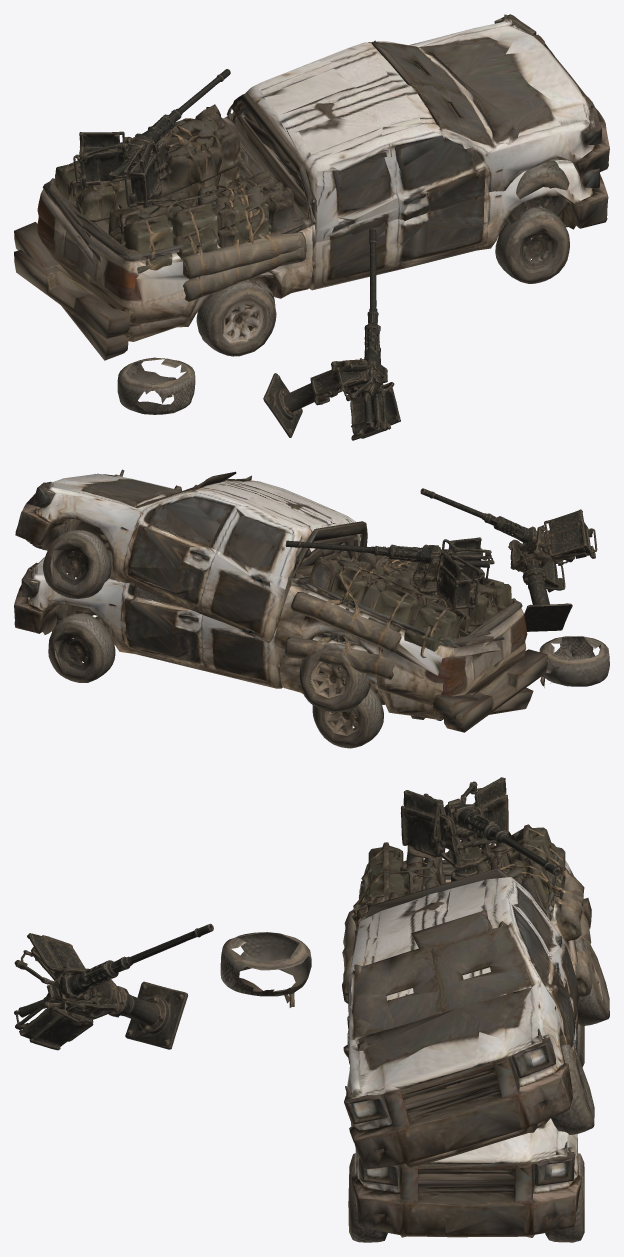
Rendered from technical.glb.
The picture shows the model from 3 angles, top to bottom: view 1: azimuth 30°, elevation 25°; view 2: azimuth 150°, elevation 25°; view 3: azimuth 270°, elevation 25°; orthographic projection. The views are drawn at different scales.
Visible parts, largest first — view 1: WRECK_hull_hull, hull_hull, WRECK_hull_plate, WRECK_hull_metal, hull_metal, hull_rubber, WRECK_turret_metal, turret_metal, WRECK_hull_rubber, hull_plate; view 2: WRECK_hull_hull, hull_hull, WRECK_hull_plate, WRECK_hull_rubber, hull_metal, WRECK_turret_metal, WRECK_hull_metal, hull_rubber, turret_metal, hull_plate; view 3: WRECK_hull_hull, WRECK_hull_plate, WRECK_hull_metal, hull_metal, WRECK_turret_metal, WRECK_hull_rubber, turret_metal, hull_hull, hull_rubber.
Part boxes in pixels (bbox=[...]): WRECK_hull_hull: bbox=[37, 14, 606, 341]; hull_hull: bbox=[37, 147, 604, 324]; WRECK_hull_plate: bbox=[223, 40, 518, 242]; WRECK_hull_metal: bbox=[14, 32, 609, 360]; hull_metal: bbox=[14, 166, 608, 338]; hull_rubber: bbox=[196, 207, 569, 356]; WRECK_turret_metal: bbox=[263, 228, 400, 440]; turret_metal: bbox=[73, 69, 230, 207]; WRECK_hull_rubber: bbox=[117, 160, 569, 414]; hull_plate: bbox=[242, 114, 489, 266]; WRECK_hull_hull: bbox=[34, 469, 518, 705]; hull_hull: bbox=[22, 548, 527, 720]; WRECK_hull_plate: bbox=[111, 471, 367, 623]; WRECK_hull_rubber: bbox=[43, 528, 609, 711]; hull_metal: bbox=[14, 547, 547, 732]; WRECK_turret_metal: bbox=[420, 488, 597, 631]; WRECK_hull_metal: bbox=[15, 483, 533, 721]; hull_rubber: bbox=[48, 611, 383, 748]; turret_metal: bbox=[285, 537, 494, 609]; hull_plate: bbox=[109, 541, 356, 667]; WRECK_hull_hull: bbox=[342, 827, 584, 1135]; WRECK_hull_plate: bbox=[343, 868, 576, 1063]; WRECK_hull_metal: bbox=[344, 824, 591, 1169]; hull_metal: bbox=[354, 842, 579, 1237]; WRECK_turret_metal: bbox=[14, 923, 213, 1050]; WRECK_hull_rubber: bbox=[220, 932, 609, 1153]; turret_metal: bbox=[400, 777, 560, 881]; hull_hull: bbox=[342, 847, 591, 1242]; hull_rubber: bbox=[348, 1024, 584, 1242].
Size of the model in its own units: 5.26 by 2.12 by 4.29.
Materials: 2 (2 with a texture image).
